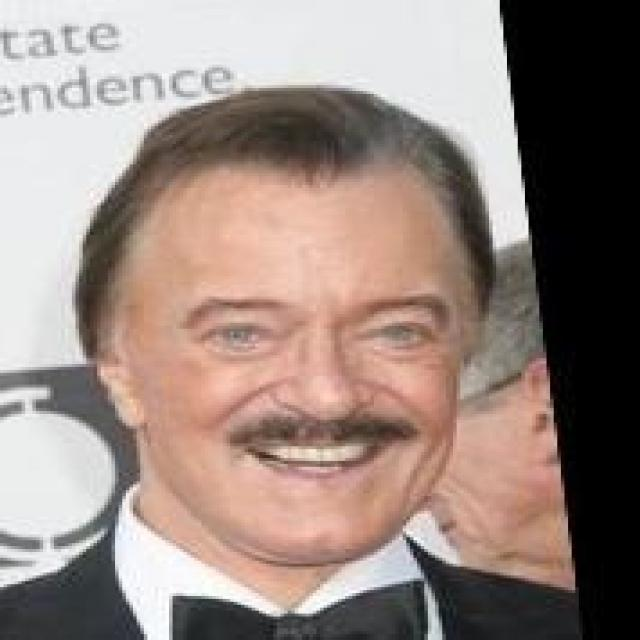nomask: (54, 115, 507, 572)
